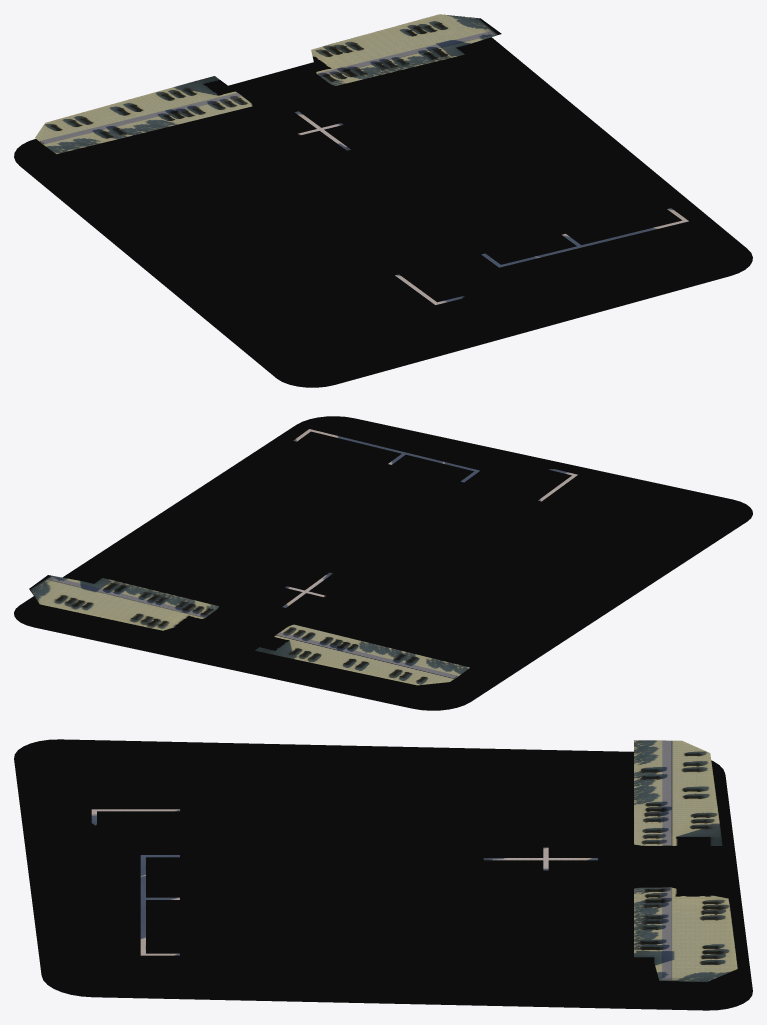
File: 园区内部.a72bc855.glb
The picture shows the model from 3 angles, top to bottom: view 1: azimuth 30°, elevation 25°; view 2: azimuth 150°, elevation 25°; view 3: azimuth 270°, elevation 25°; orthographic projection. The views are drawn at different scales.
Visible parts, largest first — view 1: sc2120, sc2164, sc2163, sc2167, sc2168; view 2: sc2120, sc2164, sc2163, sc2167, sc2168; view 3: sc2120, sc2164, sc2163, sc2167, sc2168.
Boxes of the visible parts, x1,y1,x2,y2 form: sc2120: (14, 37, 752, 387); sc2164: (311, 14, 501, 86); sc2163: (35, 76, 254, 154); sc2167: (41, 93, 241, 143); sc2168: (317, 31, 494, 76); sc2120: (14, 416, 752, 710); sc2164: (29, 575, 220, 630); sc2163: (255, 624, 469, 685); sc2167: (276, 632, 457, 678); sc2168: (49, 576, 208, 617); sc2120: (14, 739, 752, 1010); sc2164: (634, 887, 737, 982); sc2163: (634, 740, 722, 845); sc2167: (662, 740, 671, 845); sc2168: (662, 887, 671, 979).
Size of the model in its own units: 131 by 5.07 by 151.
Materials: 15 (15 with a texture image).
